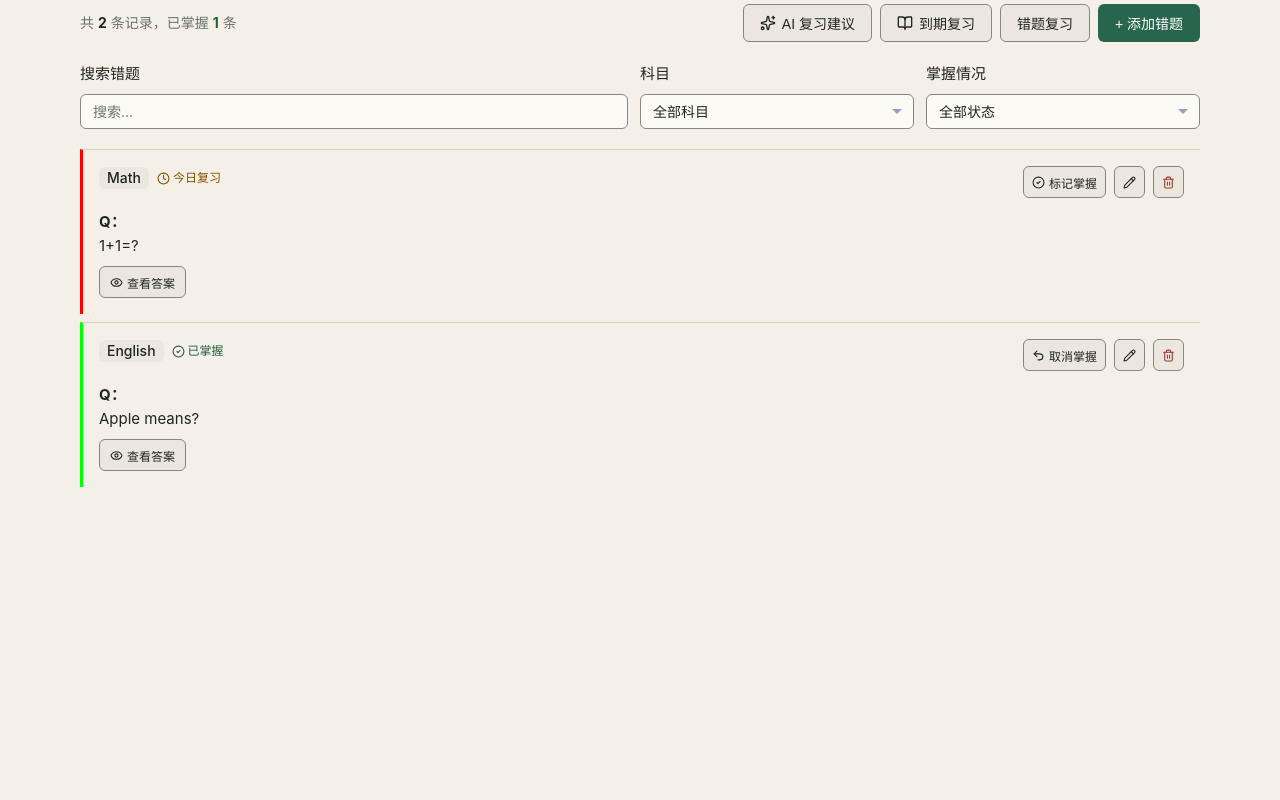
Test: MistakeBook Component › renders loaded mistakes
Check: the text "共 2 条记录，已掌握 1 条" is shown, box [80, 13, 237, 33]
Check: the text "1+1=?" is shown, box [99, 236, 139, 255]
Click the button with test id "mistake-toggle-answer-1": (142, 282) [99, 266, 186, 298]
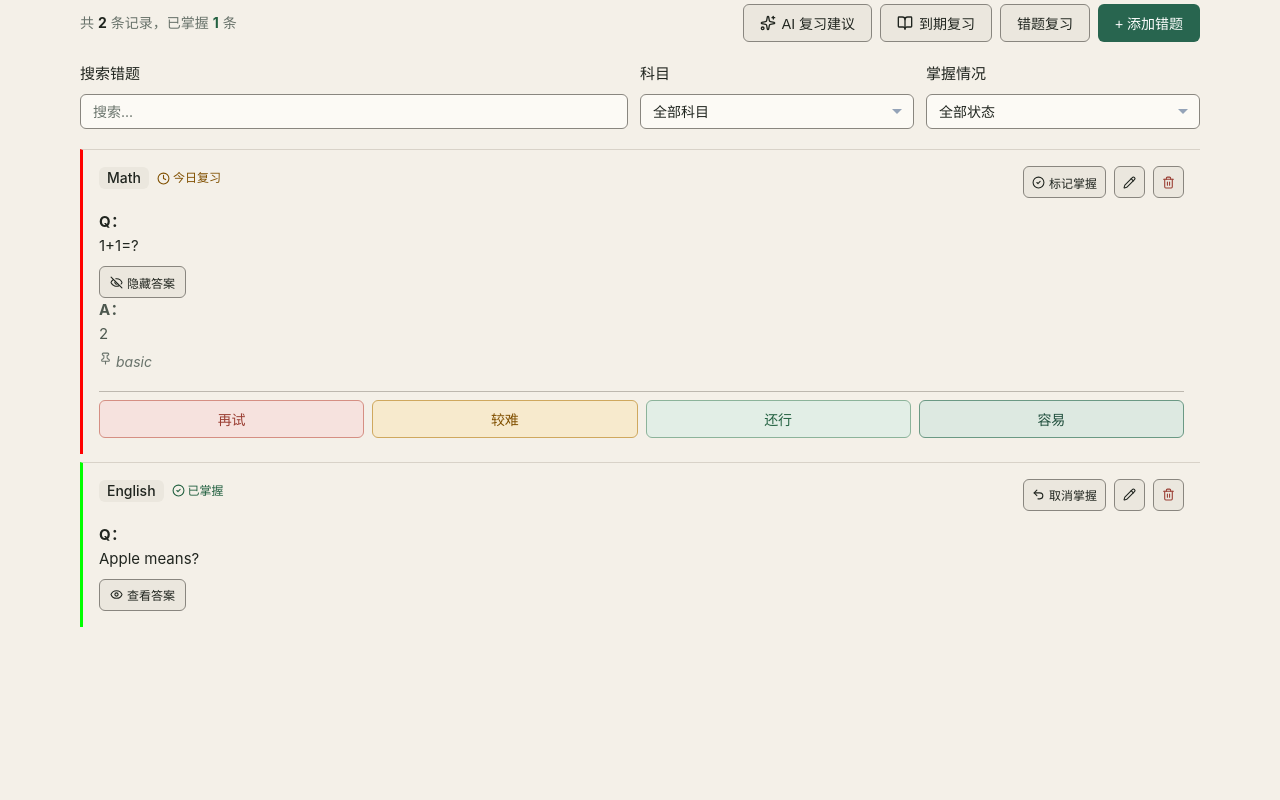
Check: the text "basic" is shown, box [116, 353, 152, 370]
